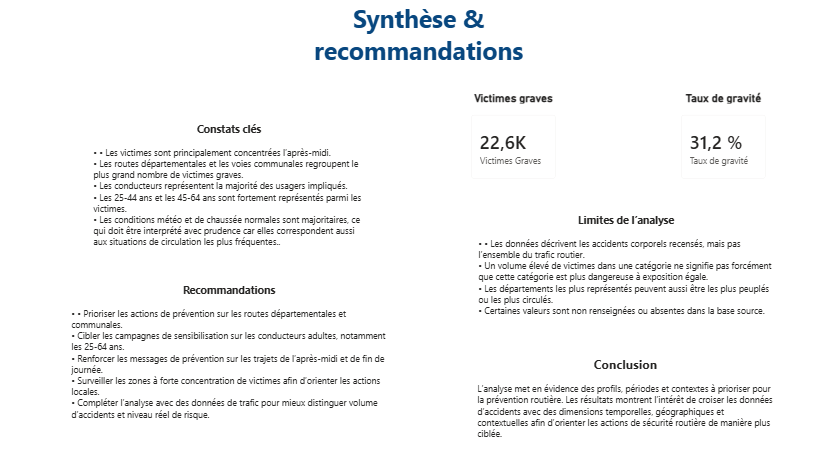

Layout of this report page (visuals, bound fields, positions):
{"tool":"powerbi","page":{"name":"Synthèse & recommandations","canvas":[1280,720],"ordinal":4},"visuals":[{"type":"textbox","box":[465.2,0,347,118.2],"z":0},{"type":"textbox","box":[141.6,181.7,421.2,204.5],"z":1},{"type":"textbox","box":[108.3,425.7,487.9,224.2],"z":2},{"type":"textbox","box":[724.2,319.7,457.6,180.3],"z":3},{"type":"textbox","box":[723.5,536.3,459.1,143.9],"z":4},{"type":"cardVisual","title":"Victimes graves","fields":{"Data":["tbl_FACT_Usagers_Analyse_2024.Victimes Graves"]},"box":[702.3,140.8,162.1,150],"z":5},{"type":"cardVisual","title":"Taux de gravité","fields":{"Data":["tbl_FACT_Usagers_Analyse_2024.Taux de gravité"]},"box":[1020.4,140.8,162.1,150],"z":6}]}

Visuals, with their boxes in screenshot pixels (x1, y1, x2, y2), scaled from the page's 1280x720 canvas onto the 839x470 screenshot:
textbox: <bbox>305, 0, 532, 77</bbox>
textbox: <bbox>93, 119, 369, 252</bbox>
textbox: <bbox>71, 278, 391, 424</bbox>
textbox: <bbox>475, 209, 775, 326</bbox>
textbox: <bbox>474, 350, 775, 444</bbox>
"Victimes graves" cardVisual: <bbox>460, 92, 567, 190</bbox>
"Taux de gravité" cardVisual: <bbox>669, 92, 775, 190</bbox>
